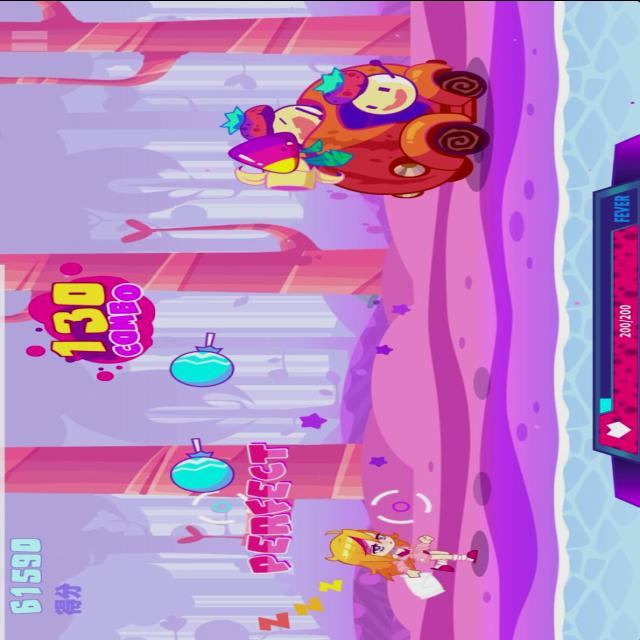cheboss: (216, 56, 496, 198)
tang: (162, 330, 236, 388), (165, 436, 237, 492)
